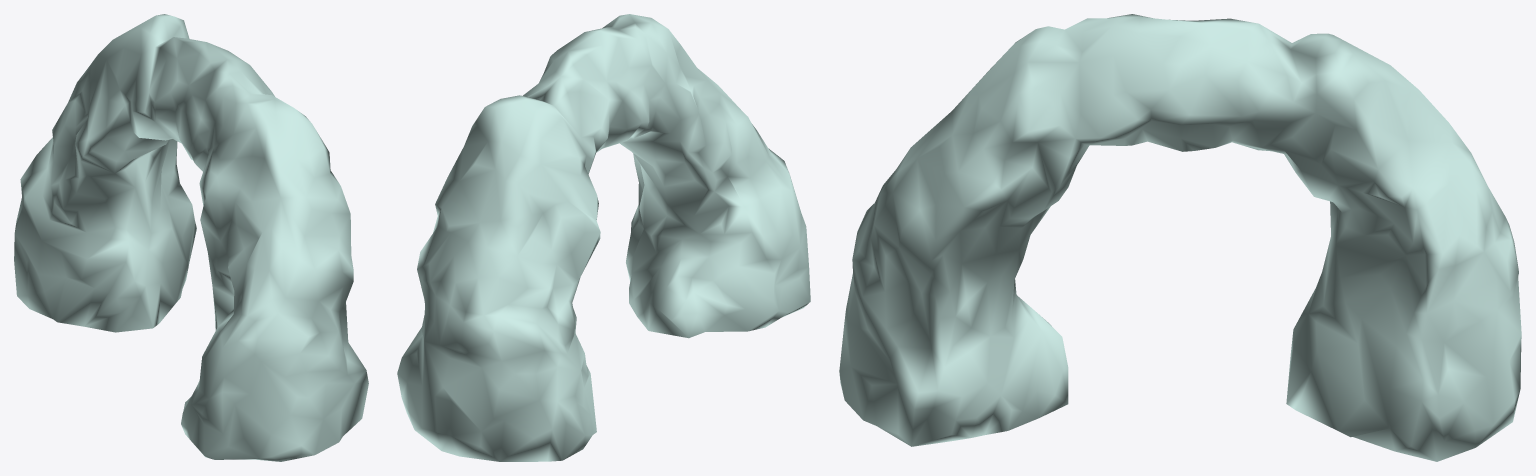
File: ICEArch_low.fbx
The picture shows the model from 3 angles, left to right: view 1: azimuth 30°, elevation 25°; view 2: azimuth 150°, elevation 25°; view 3: azimuth 270°, elevation 25°; orthographic projection. The views are drawn at different scales.
Parts seen in each view (by area): view 1: ArchICE_low; view 2: ArchICE_low; view 3: ArchICE_low.
Boxes of the visible parts, box(x1,y1,x2,y2) form: ArchICE_low: box(14, 14, 368, 461); ArchICE_low: box(397, 14, 810, 461); ArchICE_low: box(839, 14, 1521, 461).
Size of the model in its own units: 378 by 567 by 877.
